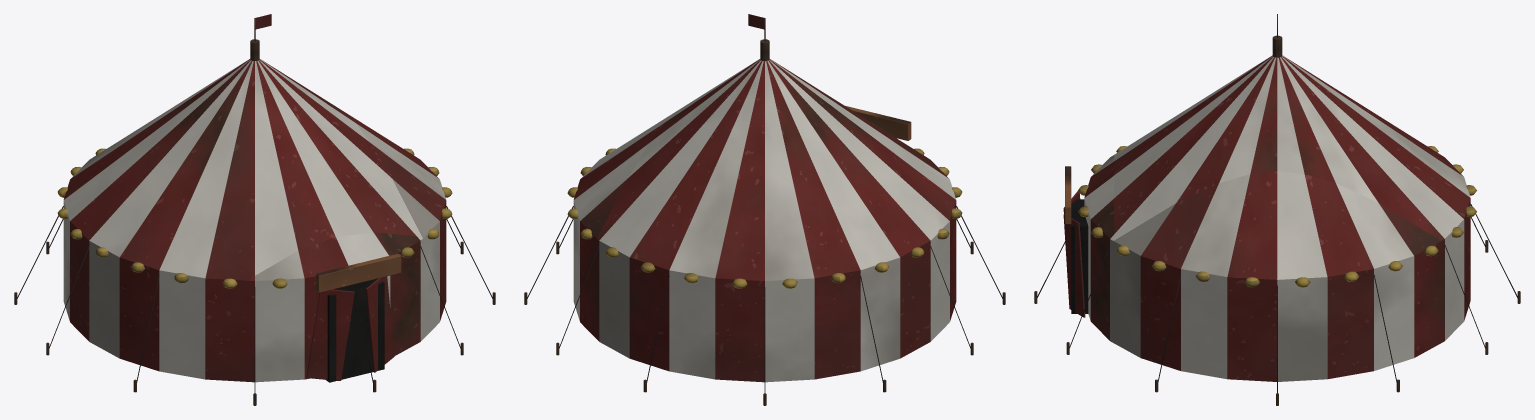
File: C03_circus_tent.glb
3 renders of one model, left to right at view 1: azimuth 30°, elevation 25°; view 2: azimuth 150°, elevation 25°; view 3: azimuth 270°, elevation 25°, orthographic.
Parts seen in each view (by area): view 1: C03_circus_tent; view 2: C03_circus_tent; view 3: C03_circus_tent.
Boxes of the visible parts, x1,y1,x2,y2 form: C03_circus_tent: (14, 14, 495, 405); C03_circus_tent: (524, 14, 1005, 405); C03_circus_tent: (1034, 14, 1520, 405).
Size of the model in its own units: 11.99 by 7.87 by 12.
Materials: 7 (7 with a texture image).
